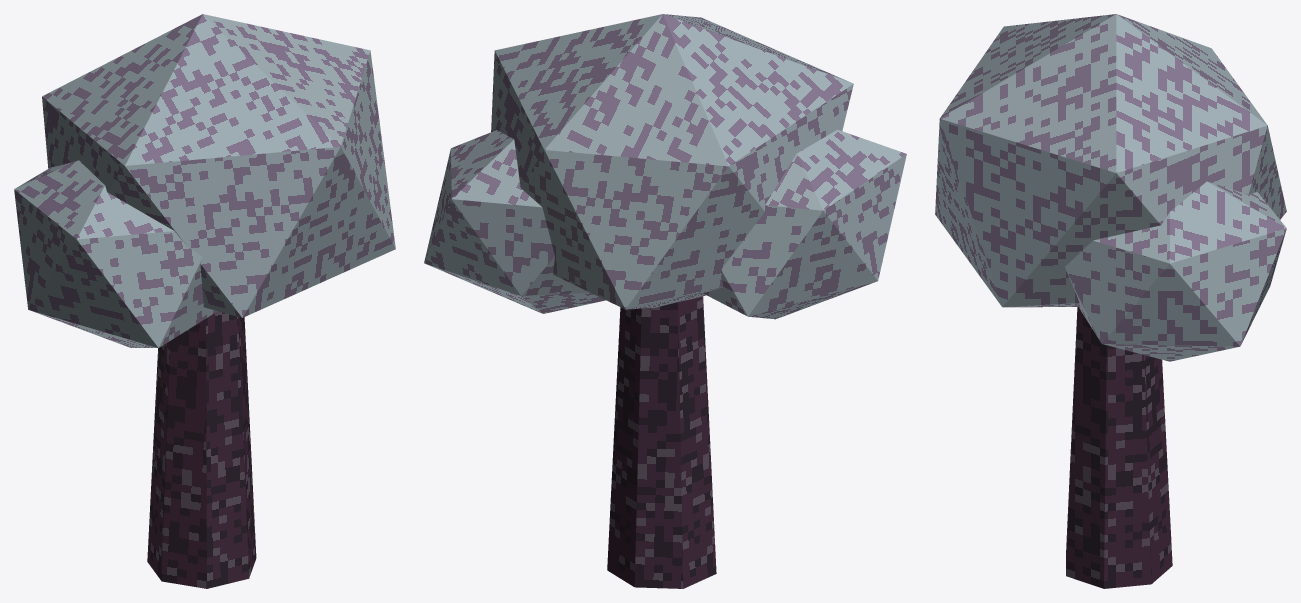
The model's file is a63_arvore_verde.glb.
The picture shows the model from 3 angles, left to right: view 1: azimuth 30°, elevation 25°; view 2: azimuth 150°, elevation 25°; view 3: azimuth 270°, elevation 25°; orthographic projection.
Visible parts, largest first — view 1: a63_arvore_verde; view 2: a63_arvore_verde; view 3: a63_arvore_verde.
Part boxes in pixels (<box>): a63_arvore_verde: <box>14,14,395,588</box>; a63_arvore_verde: <box>424,14,906,588</box>; a63_arvore_verde: <box>935,14,1286,588</box>.
Bounding box in the file's own units: 3.28 × 4.55 × 2.63.
Materials: 2 (2 with a texture image).
